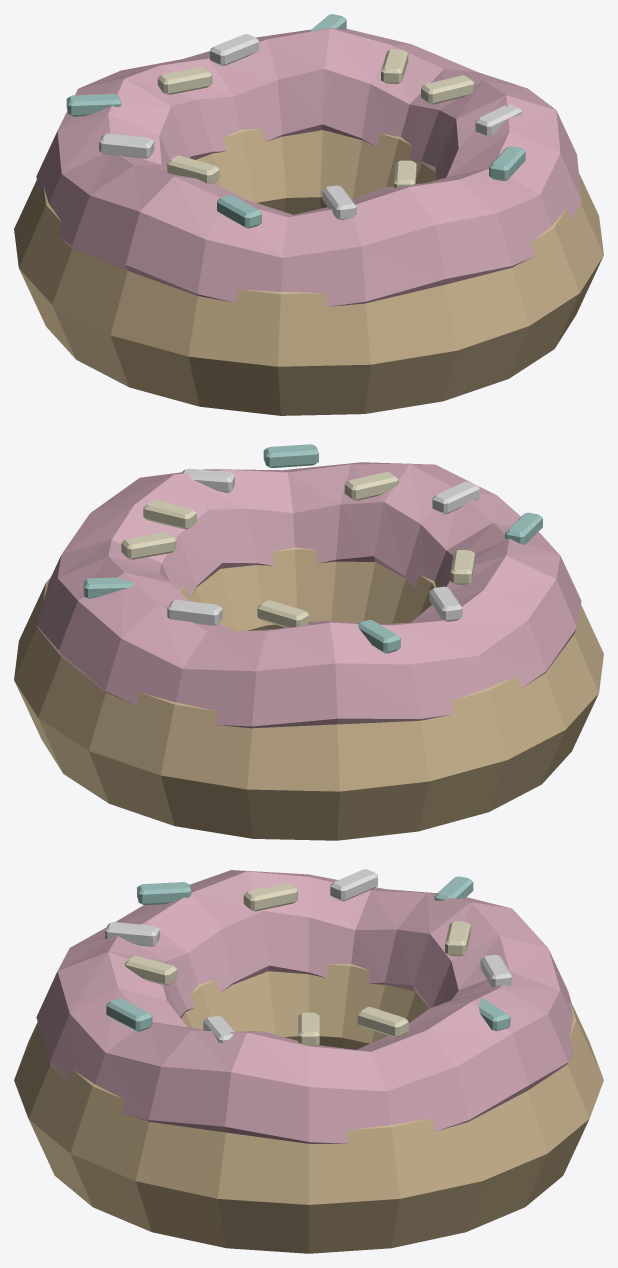
The model's file is donut.glb.
3 renders of one model, top to bottom at view 1: azimuth 30°, elevation 25°; view 2: azimuth 150°, elevation 25°; view 3: azimuth 270°, elevation 25°, orthographic.
Visible parts, largest first — view 1: donut; view 2: donut; view 3: donut.
Part boxes in pixels (bbox=[...]): donut: bbox=[14, 14, 603, 415]; donut: bbox=[14, 444, 603, 840]; donut: bbox=[14, 869, 603, 1253].
Size of the model in its own units: 0.5 by 0.2 by 0.5.
